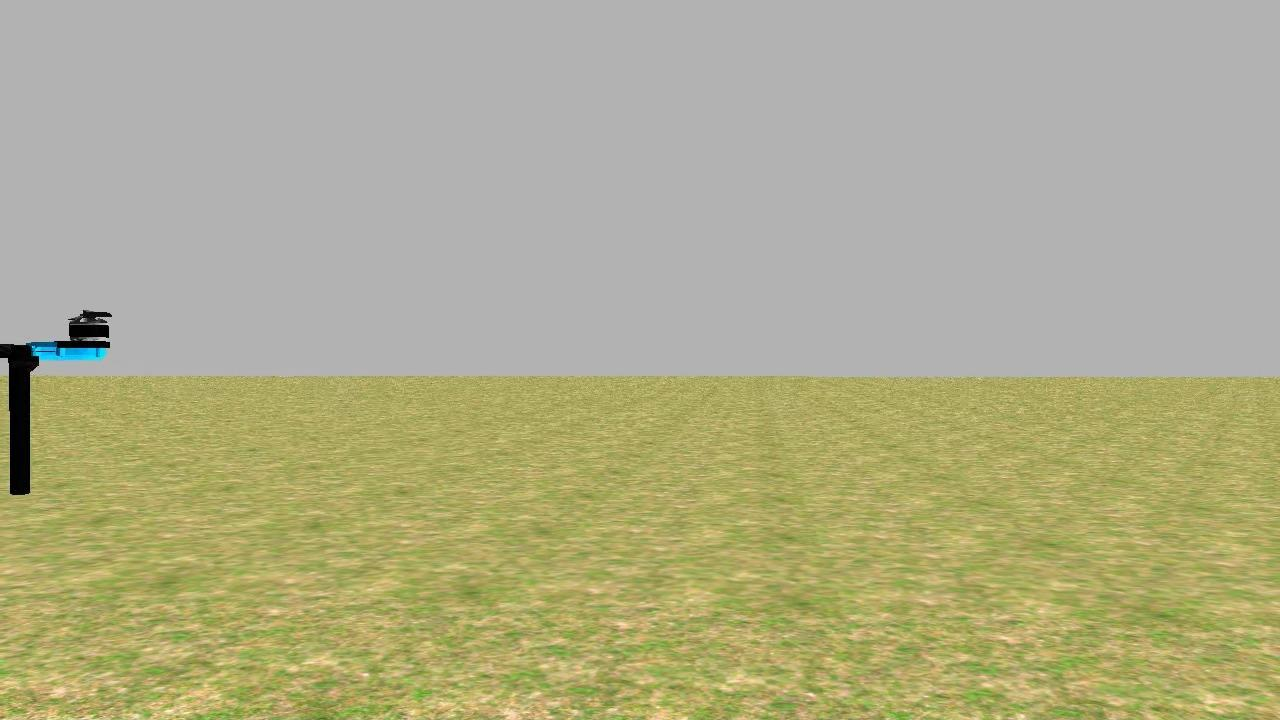UAV: (0, 295, 122, 507)
